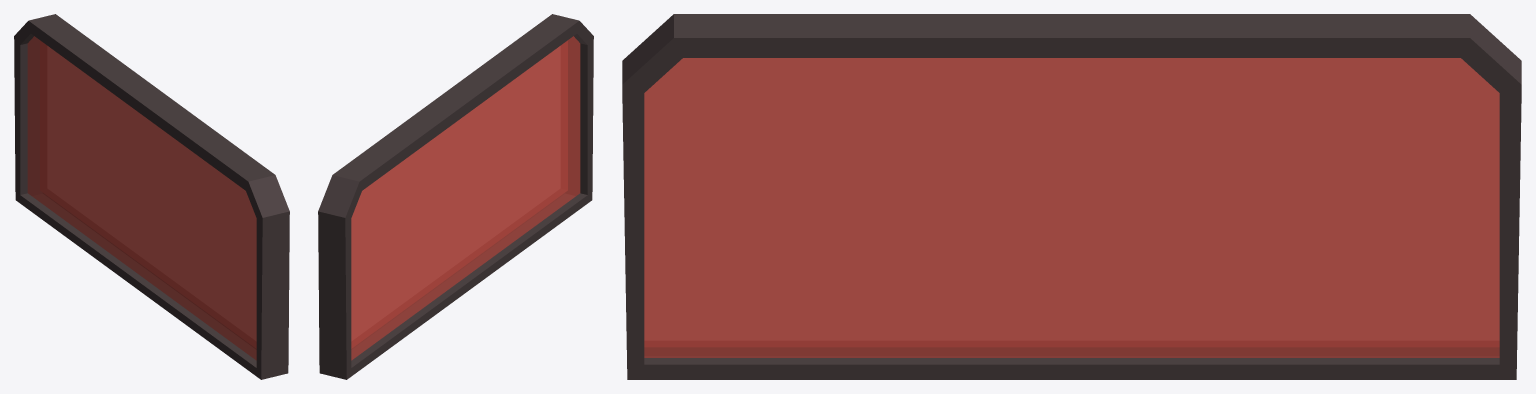
The model's file is Level basic shape 1.fbx.
3 renders of one model, left to right at view 1: azimuth 30°, elevation 25°; view 2: azimuth 150°, elevation 25°; view 3: azimuth 270°, elevation 25°, orthographic. The views are drawn at different scales.
Visible parts, largest first — view 1: Cube; view 2: Cube; view 3: Cube.
Part boxes in pixels (x1,y1,x2,y2): Cube: (14, 14, 289, 379); Cube: (318, 14, 593, 379); Cube: (622, 14, 1521, 379).
Bounding box in the file's own units: 1396 × 586 × 88.19.
